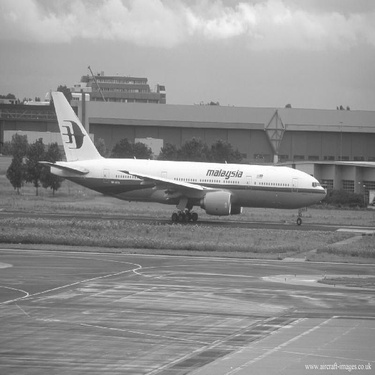airplane: (39, 77, 336, 227)
